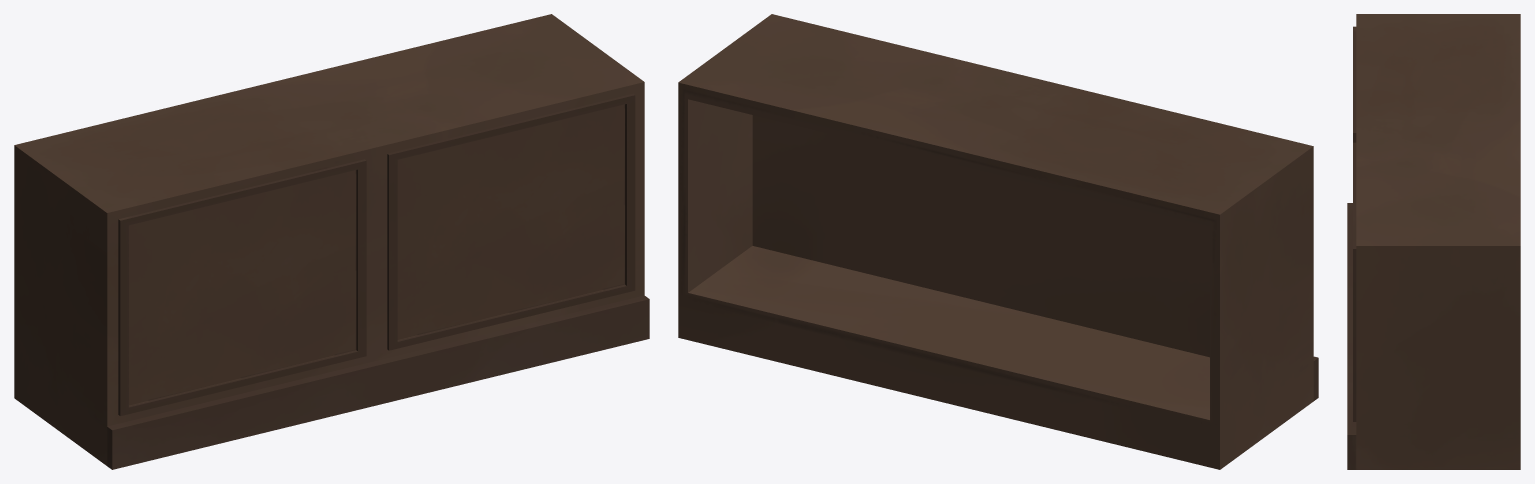
File: Counter1.fbx
The picture shows the model from 3 angles, left to right: view 1: azimuth 30°, elevation 25°; view 2: azimuth 150°, elevation 25°; view 3: azimuth 270°, elevation 25°; orthographic projection. The views are drawn at different scales.
Visible parts, largest first — view 1: Counter1; view 2: Counter1; view 3: Counter1.
Boxes of the visible parts, box(x1,y1,x2,y2) form: Counter1: box(14, 14, 649, 469); Counter1: box(678, 14, 1318, 469); Counter1: box(1347, 14, 1520, 469).
Size of the model in its own units: 200 by 89.99 by 63.1.
